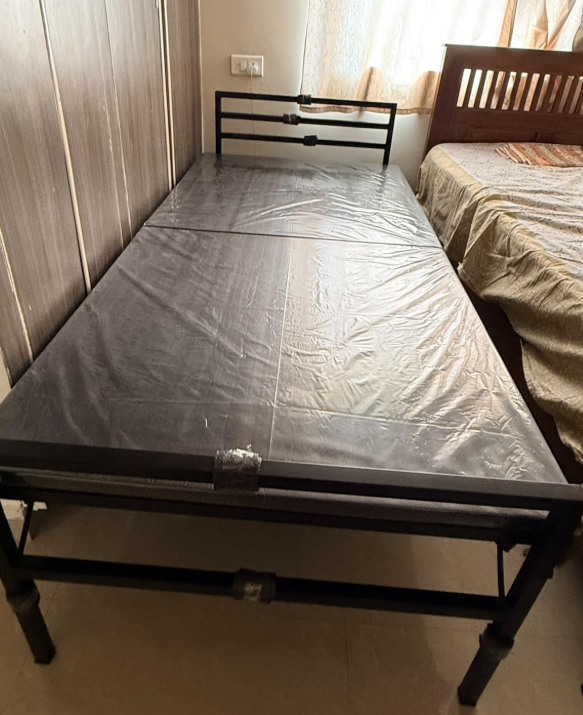cot: (0, 86, 575, 715)
